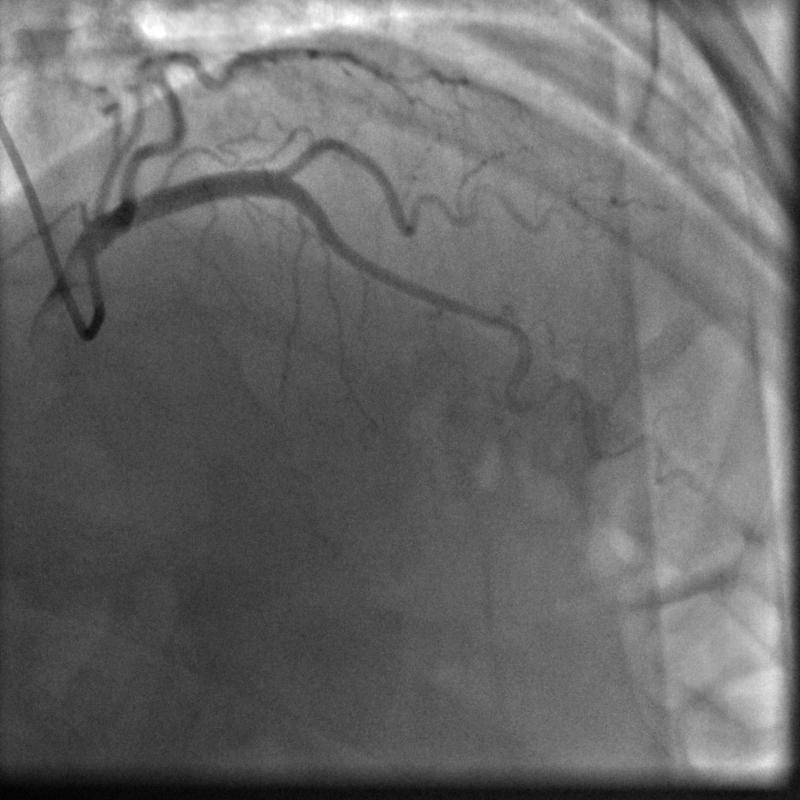Stenosis: (472, 302, 527, 339)
